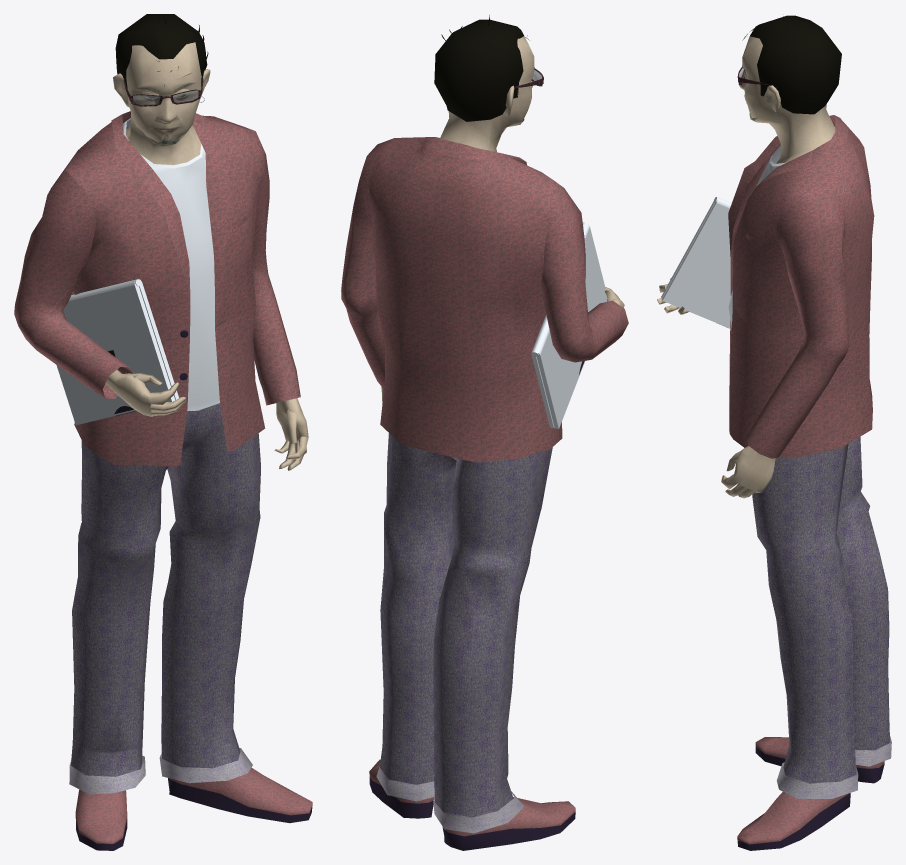
The picture shows the model from 3 angles, left to right: view 1: azimuth 30°, elevation 25°; view 2: azimuth 150°, elevation 25°; view 3: azimuth 270°, elevation 25°; orthographic projection. The views are drawn at different scales.
Visible parts, largest first — view 1: Mesh41, Mesh86, Mesh84, Mesh28, Mesh32, Mesh65, Mesh87, Mesh33, Mesh66, Mesh25, Mesh24, Mesh40 (+2 smaller); view 2: Mesh86, Mesh41, Mesh84, Mesh66, Mesh87, Mesh28, Mesh25, Mesh65, Mesh40, Mesh33, Mesh24; view 3: Mesh41, Mesh86, Mesh87, Mesh66, Mesh27, Mesh65, Mesh33, Mesh24, Mesh37, Mesh25, Mesh40.
Boxes of the visible parts, left/top/right/bottom form: Mesh41: left=71, top=403, right=260, bottom=776; Mesh86: left=53, top=111, right=265, bottom=466; Mesh84: left=14, top=170, right=131, bottom=398; Mesh28: left=56, top=281, right=175, bottom=425; Mesh32: left=123, top=118, right=219, bottom=410; Mesh65: left=126, top=42, right=201, bottom=165; Mesh87: left=229, top=121, right=300, bottom=405; Mesh33: left=168, top=767, right=312, bottom=823; Mesh66: left=115, top=14, right=207, bottom=88; Mesh25: left=75, top=789, right=127, bottom=850; Mesh24: left=159, top=748, right=252, bottom=783; Mesh40: left=69, top=755, right=145, bottom=794; Mesh86: left=369, top=137, right=563, bottom=462; Mesh41: left=379, top=433, right=552, bottom=817; Mesh84: left=540, top=187, right=628, bottom=362; Mesh66: left=434, top=19, right=523, bottom=121; Mesh87: left=341, top=138, right=393, bottom=388; Mesh28: left=537, top=224, right=606, bottom=428; Mesh25: left=442, top=797, right=575, bottom=850; Mesh65: left=440, top=36, right=534, bottom=152; Mesh40: left=433, top=791, right=524, bottom=833; Mesh33: left=369, top=759, right=434, bottom=818; Mesh24: left=376, top=767, right=434, bottom=801; Mesh41: left=752, top=436, right=889, bottom=783; Mesh86: left=728, top=115, right=874, bottom=457; Mesh87: left=745, top=190, right=849, bottom=458; Mesh66: left=750, top=15, right=841, bottom=114; Mesh27: left=662, top=199, right=730, bottom=328; Mesh65: left=738, top=36, right=835, bottom=163; Mesh33: left=737, top=792, right=850, bottom=850; Mesh24: left=776, top=762, right=858, bottom=798; Mesh37: left=733, top=446, right=775, bottom=491; Mesh25: left=755, top=737, right=884, bottom=783; Mesh40: left=855, top=736, right=891, bottom=766.
Bounding box in the file's own units: 24.33 × 75 × 20.51.
19 materials, 8 textured.
